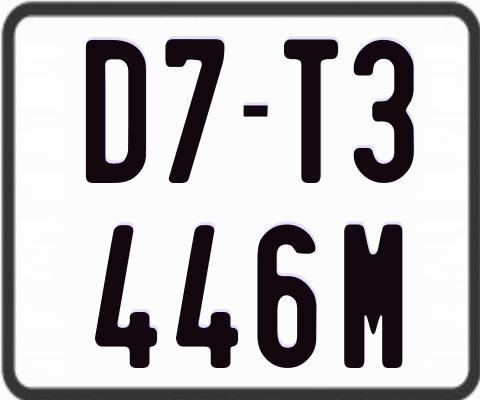3: (354, 37, 415, 181)
4: (92, 222, 157, 369), (175, 223, 241, 367)
6: (255, 222, 314, 368)
7: (163, 36, 225, 185)
D: (86, 38, 149, 187)
M: (342, 221, 402, 366)
T: (284, 37, 341, 181)
